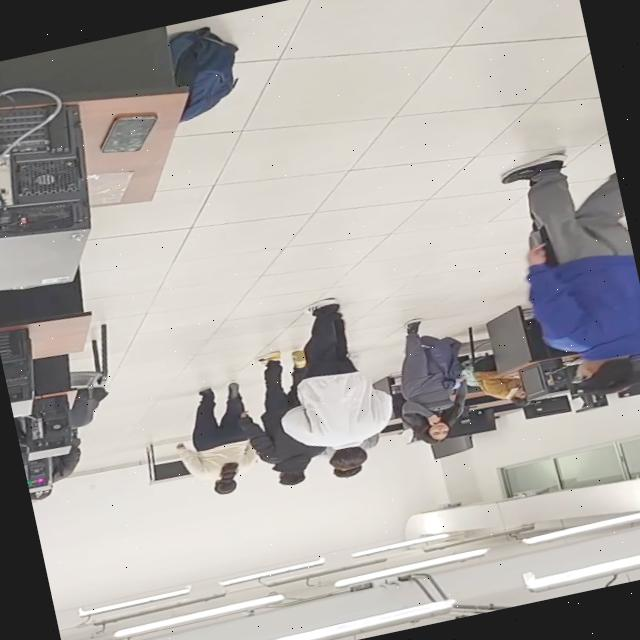Persona: (495, 140, 640, 407), (287, 302, 383, 466), (167, 381, 272, 504), (396, 321, 482, 444), (250, 392, 316, 496)
